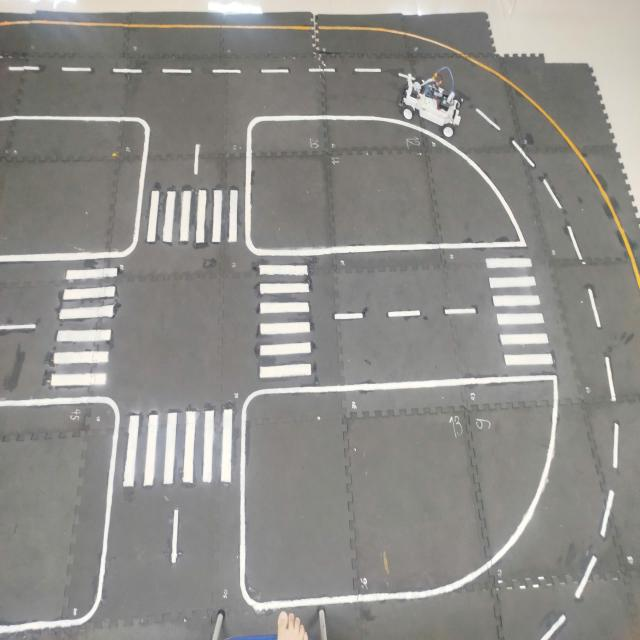SiCo-CAR: (398, 66, 462, 138)
